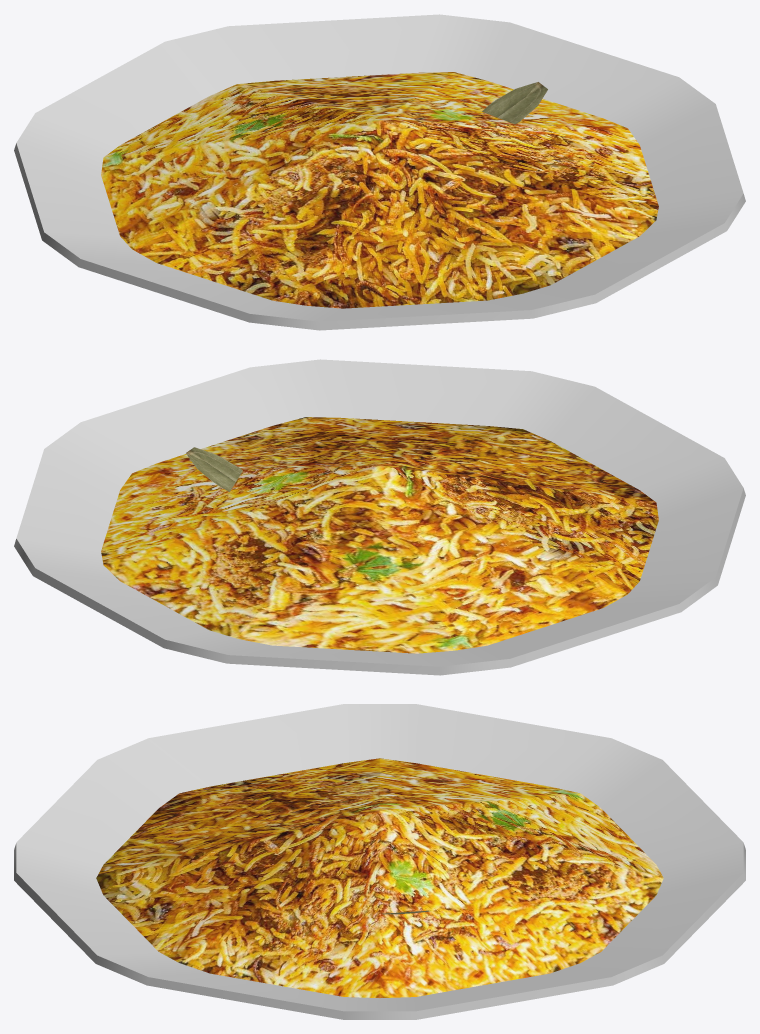
File: BRIYANI.fbx
3 views of the same model, one above another, from view 1: azimuth 30°, elevation 25°; view 2: azimuth 150°, elevation 25°; view 3: azimuth 270°, elevation 25° (orthographic).
Parts seen in each view (by area): view 1: polySurface68, polySurface63, polySurface69; view 2: polySurface68, polySurface63, polySurface69; view 3: polySurface68, polySurface63.
Part boxes in pixels (x1,y1,x2,y2): polySurface68: (101,72,658,308); polySurface63: (14,14,745,330); polySurface69: (482,82,547,124); polySurface68: (101,417,658,653); polySurface63: (14,359,745,675); polySurface69: (186,447,242,491); polySurface68: (96,758,663,997); polySurface63: (14,704,745,1019).
Bounding box in the file's own units: 35.16 × 5.29 × 35.16.
3 materials, 2 textured.
